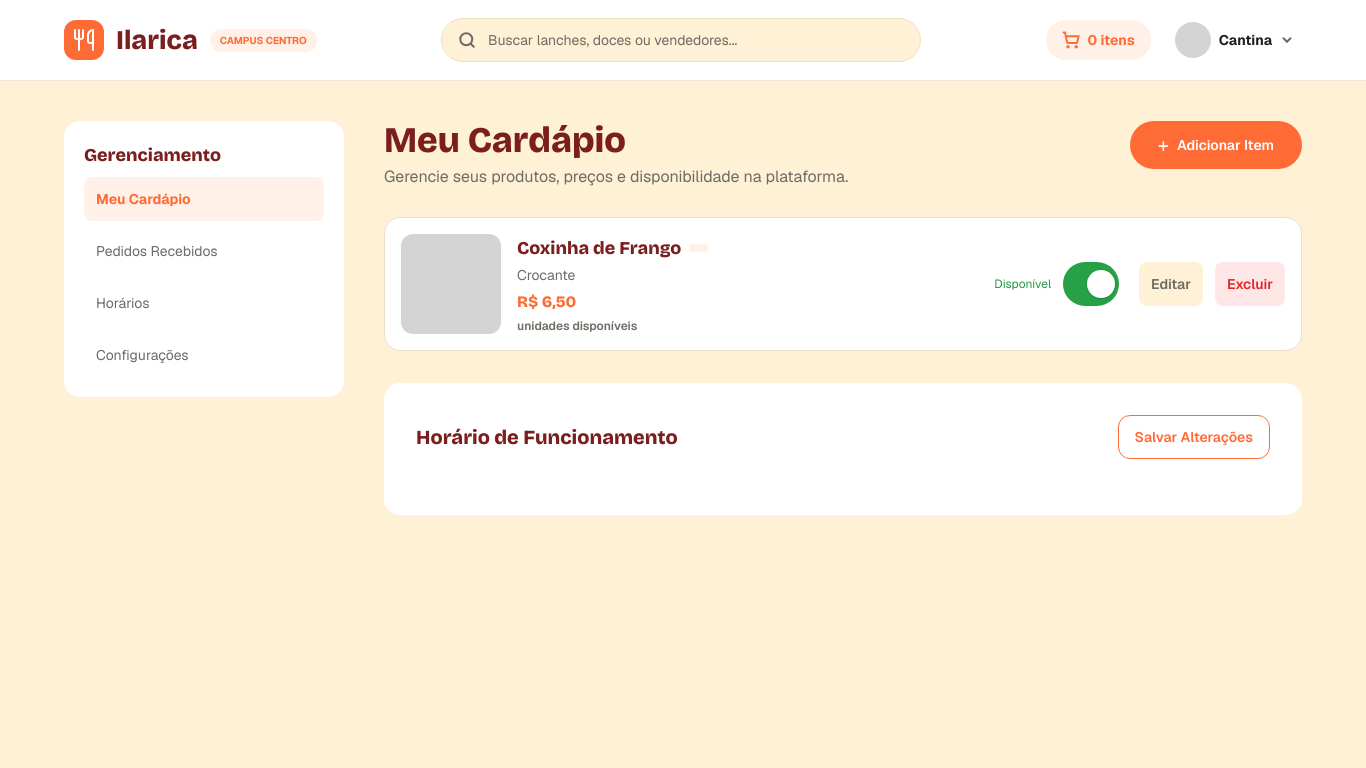
Test: CanteenDashboardPage › renders the seller menu from the API and handles availability
Expected: the heading "Meu Cardápio" is shown, [384,119,626,162]
Expected: the heading "Coxinha de Frango" is shown, [517,234,681,262]
Click the switch named "Alterar disponibilidade de Coxinha de Frango".
click(1091, 284)  # box [1063,262,1119,306]
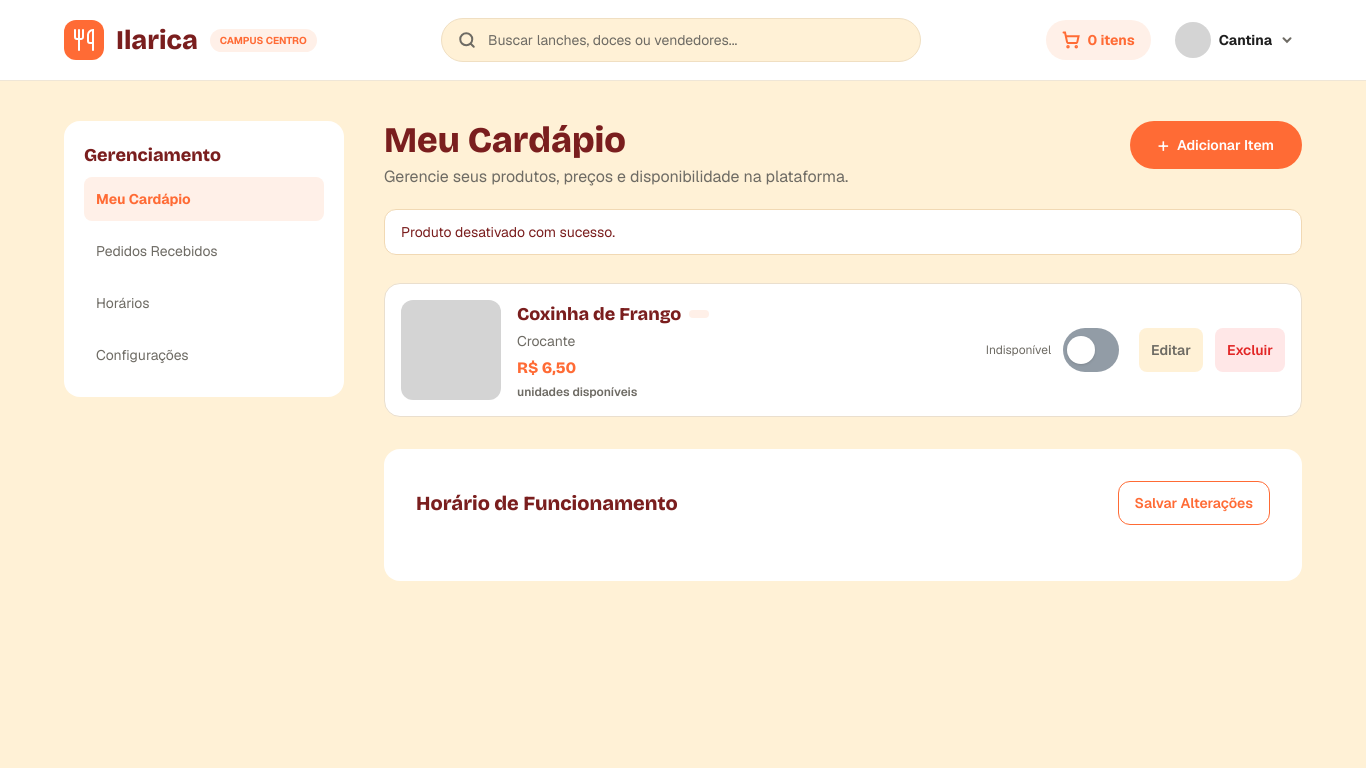
Expected: the text "Indisponível" is shown, [986,342,1051,358]
